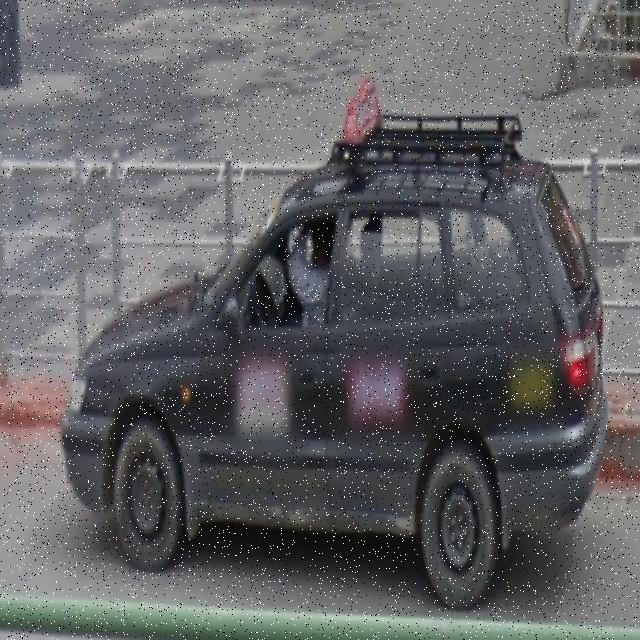cars: (61, 94, 612, 608)
